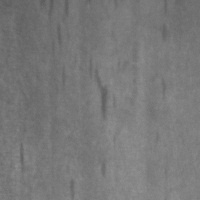inclusion: (42, 1, 74, 99), (84, 58, 125, 124), (11, 137, 34, 178), (156, 74, 172, 105), (157, 21, 172, 47)
